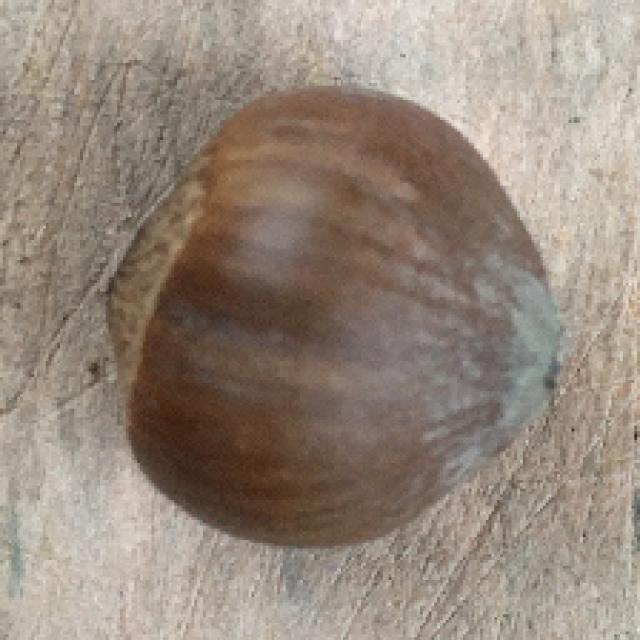damagedHazelnut: (100, 81, 584, 577)
